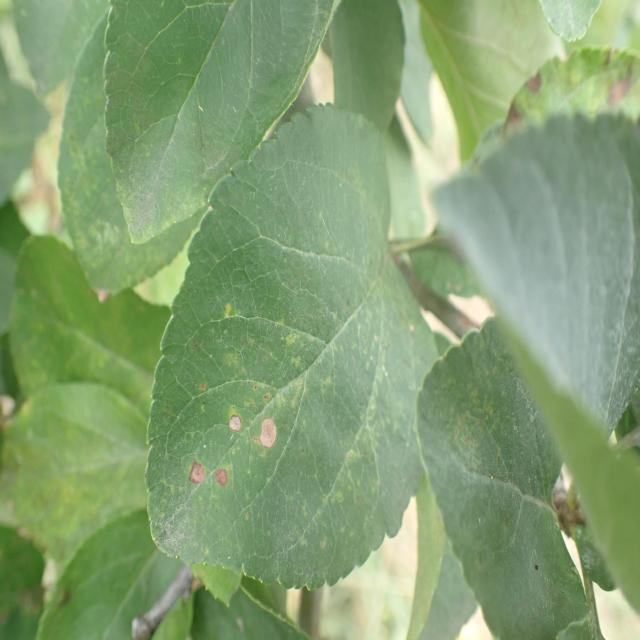frog-eye-leaf-spot: (144, 100, 436, 593)
